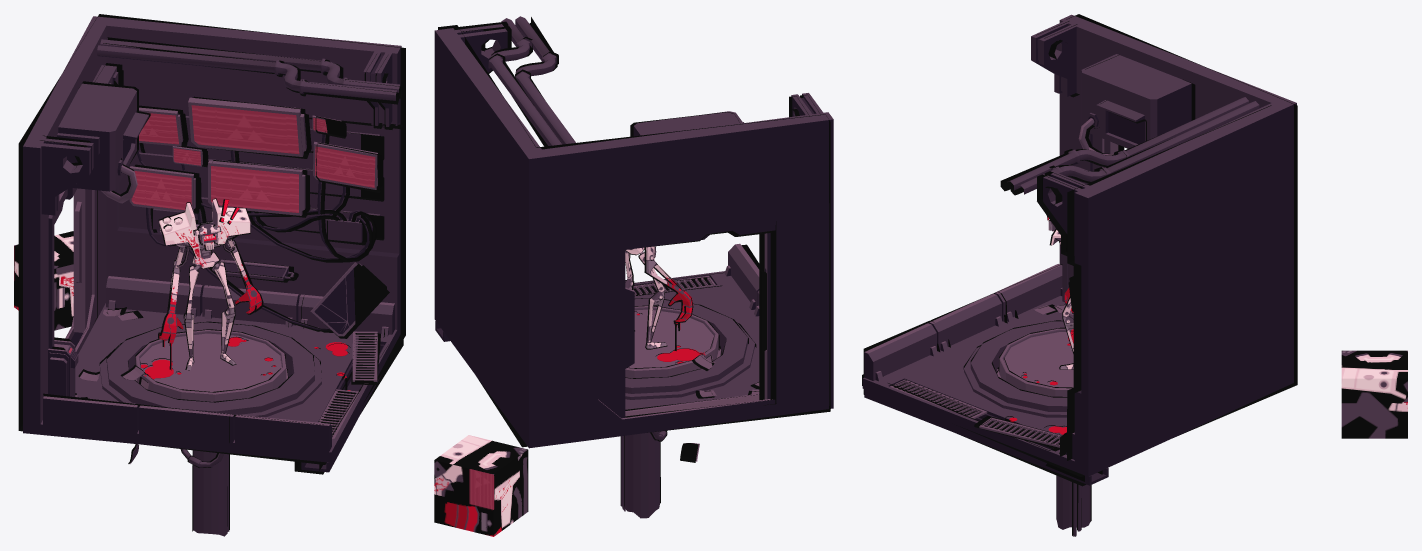
Rendered from i_am_error.glb.
3 views of the same model, side by side, from view 1: azimuth 30°, elevation 25°; view 2: azimuth 150°, elevation 25°; view 3: azimuth 270°, elevation 25° (orthographic). The views are drawn at different scales.
Visible parts, largest first — view 1: character_error.010_0, Cube; view 2: character_error.010_0, Cube; view 3: character_error.010_0, Cube.
Part boxes in pixels (bbox=[...]): character_error.010_0: bbox=[18, 14, 405, 536]; Cube: bbox=[14, 231, 73, 330]; character_error.010_0: bbox=[434, 16, 833, 518]; Cube: bbox=[434, 435, 528, 536]; character_error.010_0: bbox=[862, 14, 1297, 536]; Cube: bbox=[1341, 350, 1407, 438].
Size of the model in its own units: 5.22 by 5.62 by 6.53.
2 materials, 1 textured.
